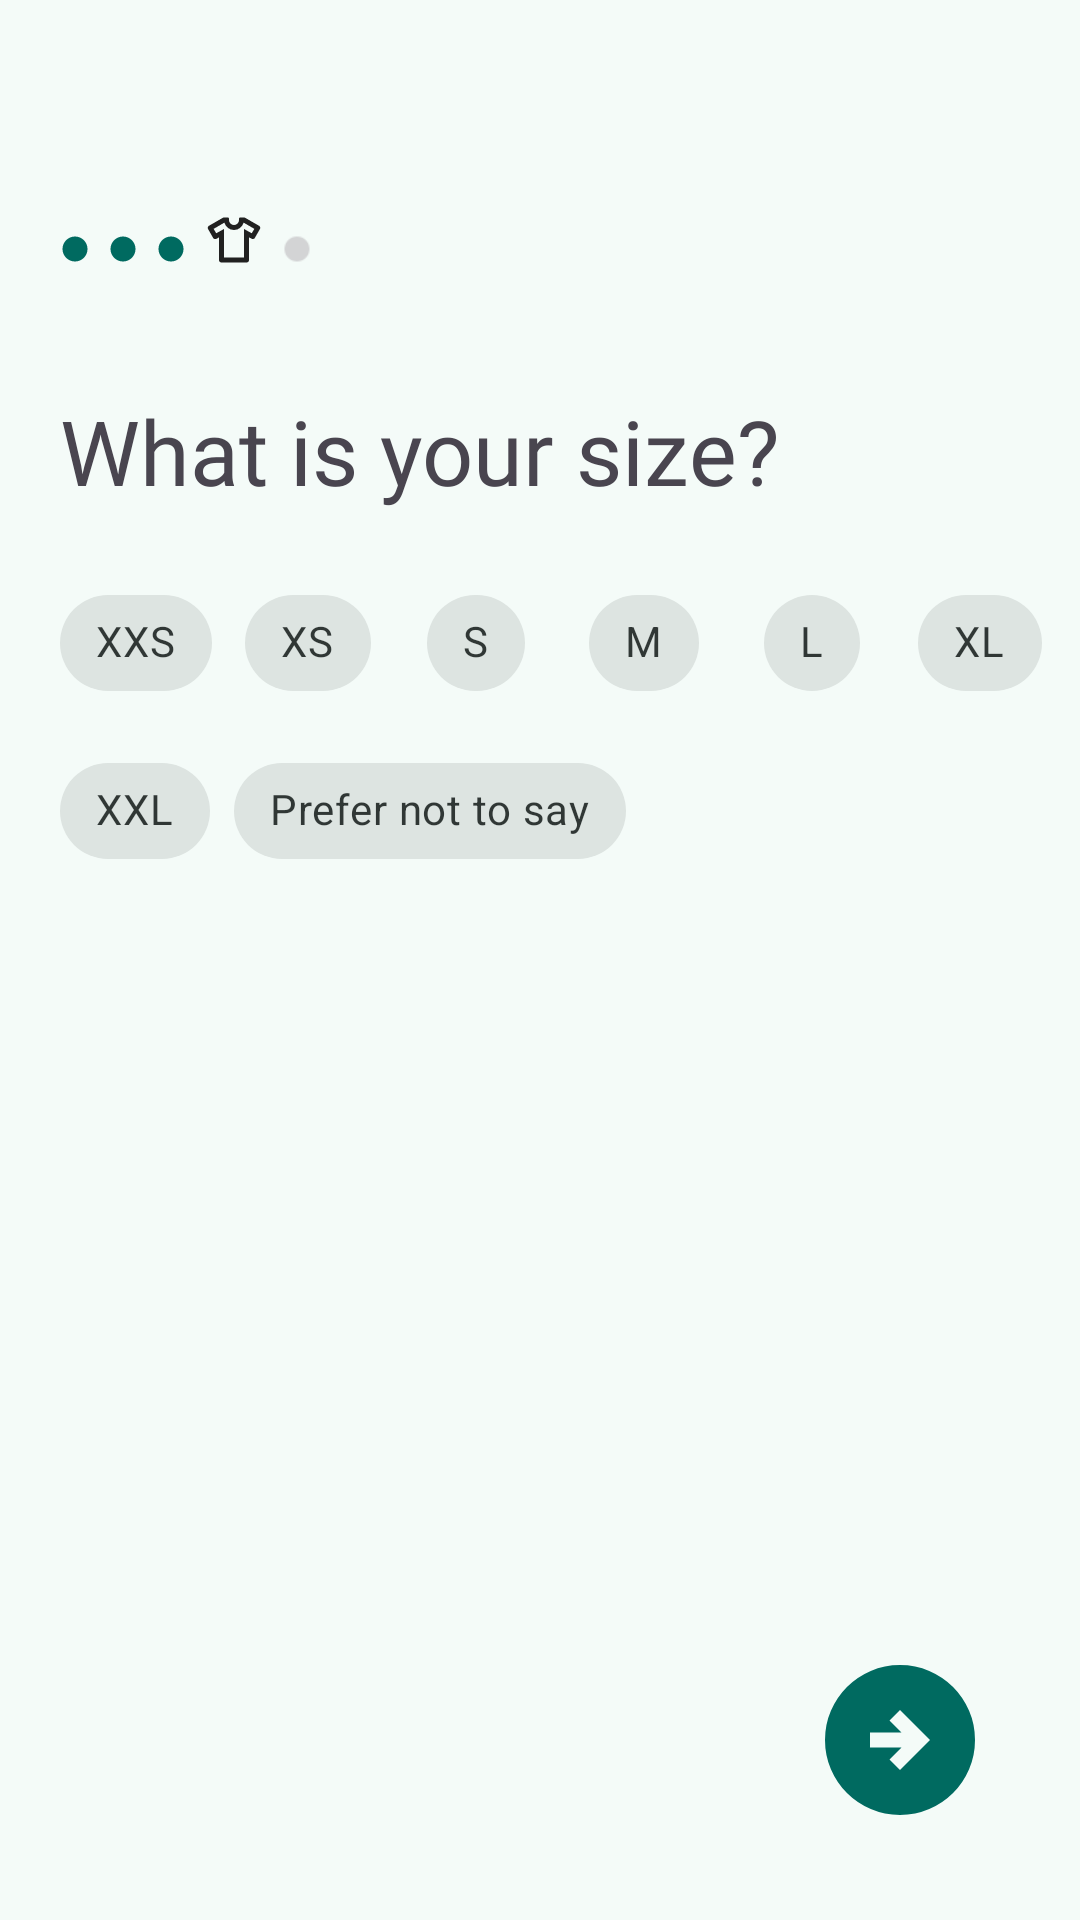

Icon click points for this 1080w x 1920h phone screenshot, format (x=x, y=y):
clothes: (x=234, y=240)
next: (x=900, y=1740)
